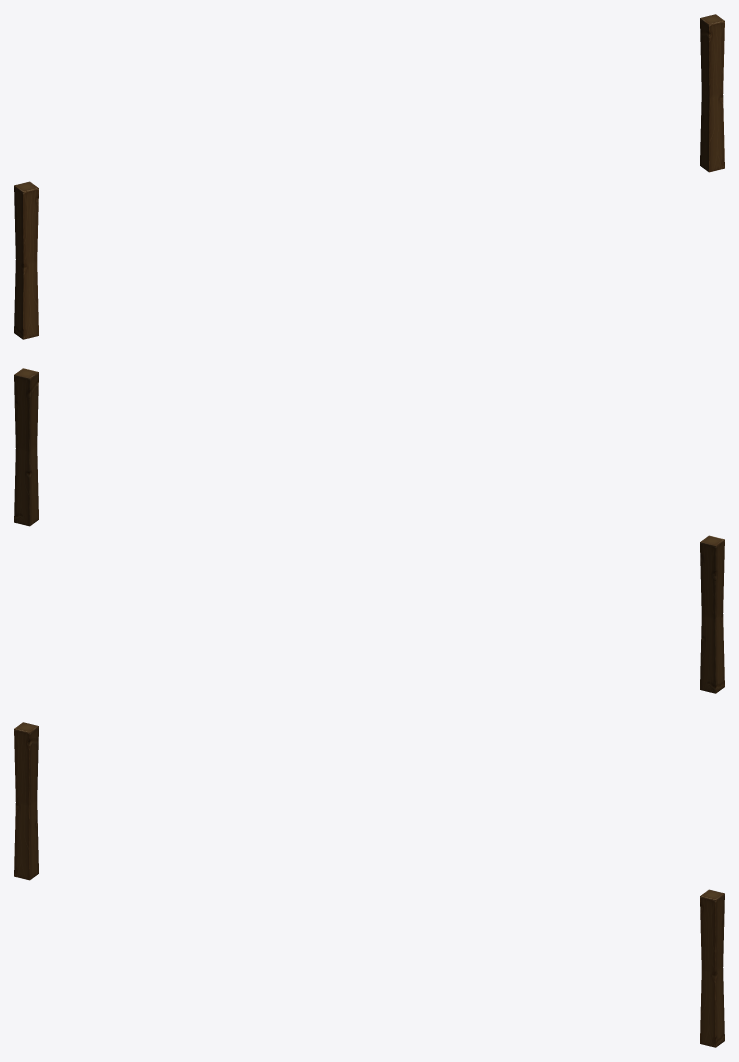
File: Wood_Beams_SpawnHouse.fbx
The picture shows the model from 3 angles, top to bottom: view 1: azimuth 30°, elevation 25°; view 2: azimuth 150°, elevation 25°; view 3: azimuth 330°, elevation 25°; orthographic projection.
Visible parts, largest first — view 1: Wood Beam; view 2: Wood Beam; view 3: Wood Beam.
Boxes of the visible parts, left/top/right/bottom form: Wood Beam: left=14, top=14, right=724, bottom=339; Wood Beam: left=14, top=368, right=724, bottom=693; Wood Beam: left=14, top=722, right=724, bottom=1047.
Size of the model in its own units: 1668 by 335 by 37.82.
Materials: 1 (1 with a texture image).
